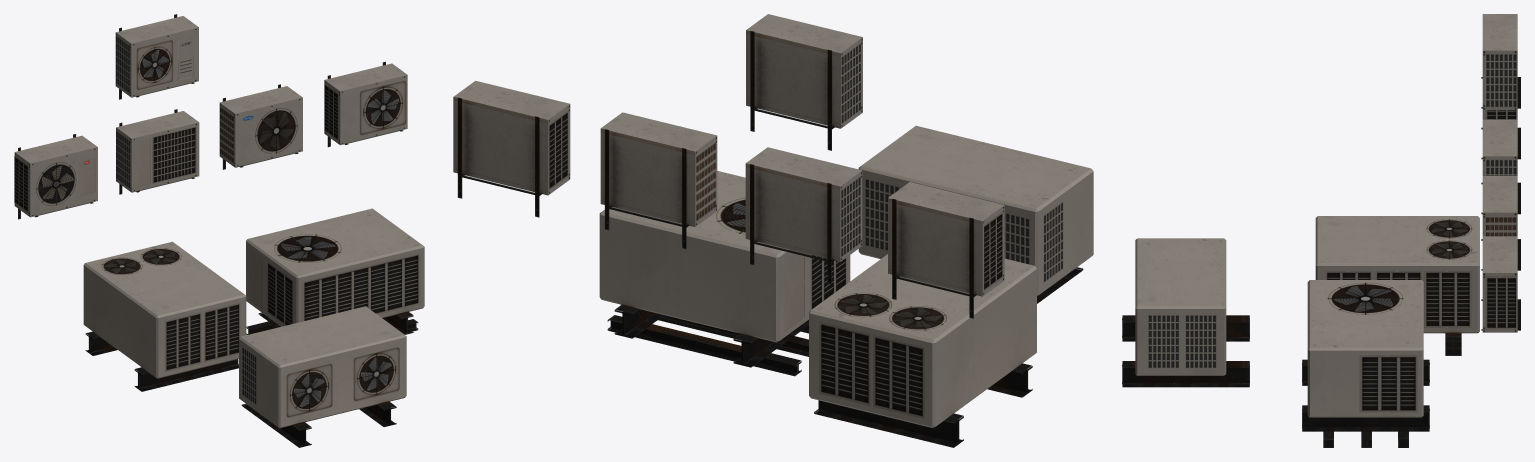
The model's file is air_conditioners.glb.
The picture shows the model from 3 angles, left to right: view 1: azimuth 30°, elevation 25°; view 2: azimuth 150°, elevation 25°; view 3: azimuth 270°, elevation 25°; orthographic projection. The views are drawn at different scales.
Parts seen in each view (by area): view 1: Object_2; view 2: Object_2; view 3: Object_2.
Boxes of the visible parts, <box> form: Object_2: <box>14,14,424,447</box>; Object_2: <box>453,14,1093,447</box>; Object_2: <box>1122,14,1520,447</box>.
Size of the model in its own units: 621 by 453 by 512.
1 material, 1 textured.
